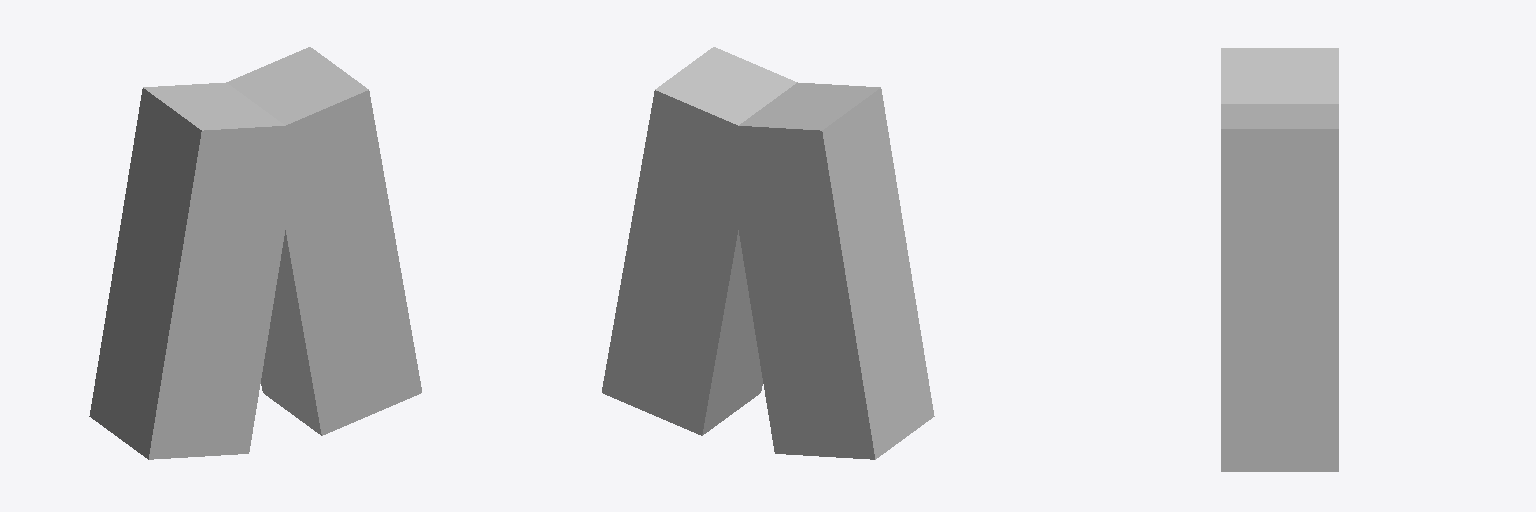
Rendered from arm_berill_legs.obj.
The picture shows the model from 3 angles: view 1: azimuth 30°, elevation 25°; view 2: azimuth 150°, elevation 25°; view 3: azimuth 270°, elevation 25°; orthographic projection.
Parts seen in each view (by area): view 1: arm_jacket_arm_Cube.001; view 2: arm_jacket_arm_Cube.001; view 3: arm_jacket_arm_Cube.001.
Part boxes in pixels (x1,y1,x2,y2): arm_jacket_arm_Cube.001: (89,47,421,459); arm_jacket_arm_Cube.001: (602,47,934,459); arm_jacket_arm_Cube.001: (1221,48,1338,471).
Size of the model in its own units: 2.68 by 3.13 by 1.